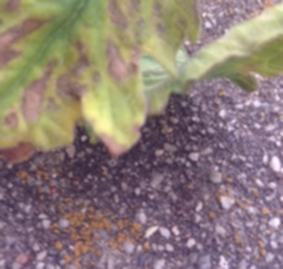Tomato mold leaf: (0, 0, 212, 187)
